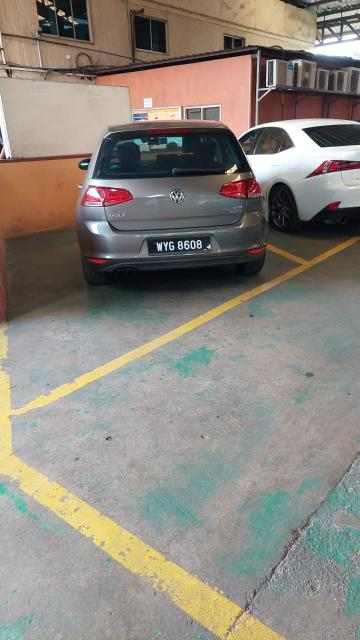License_Plate: (146, 234, 212, 257)
lorry: (75, 119, 271, 278)
